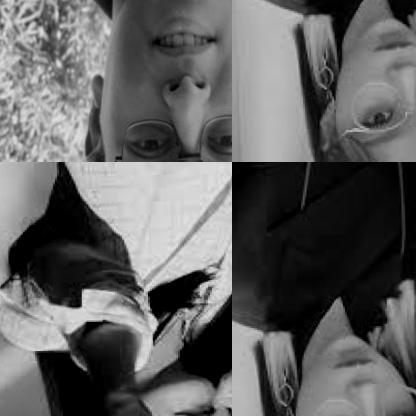glasses: (309, 65, 415, 161), (67, 116, 231, 161), (269, 382, 415, 415)
